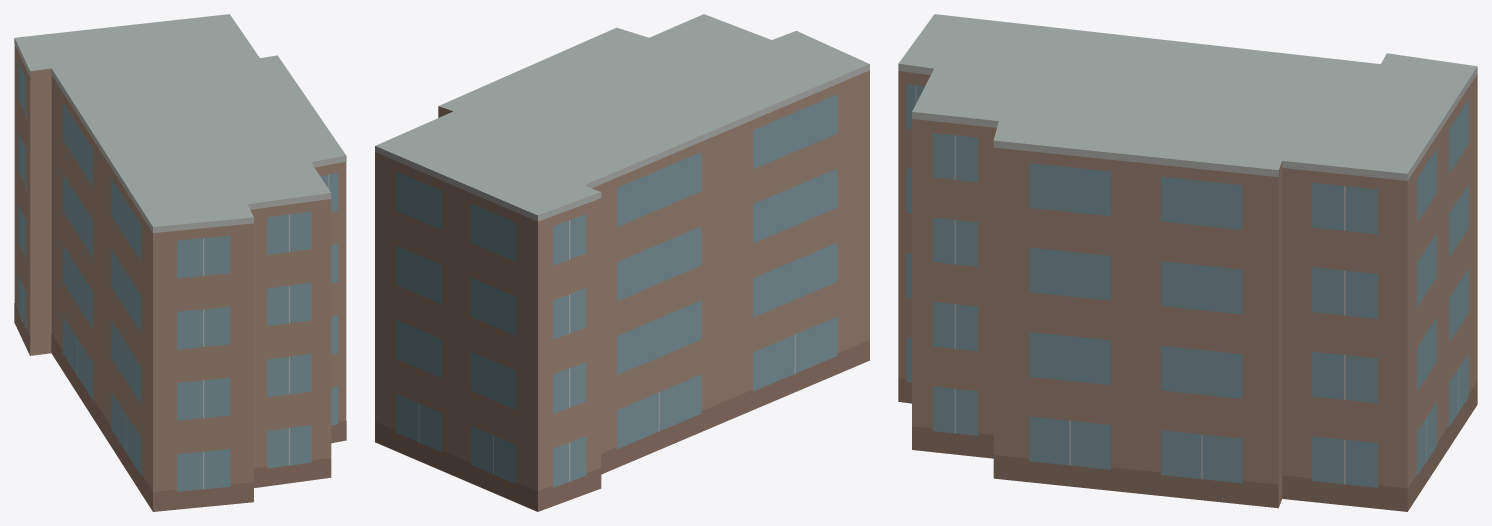
File: survey-upis-32624297.glb
The picture shows the model from 3 angles, left to right: view 1: azimuth 30°, elevation 25°; view 2: azimuth 150°, elevation 25°; view 3: azimuth 270°, elevation 25°; orthographic projection. The views are drawn at different scales.
Visible parts, largest first — view 1: survey-upis-32624297.tmp; view 2: survey-upis-32624297.tmp; view 3: survey-upis-32624297.tmp.
Boxes of the visible parts, left/top/right/bottom form: survey-upis-32624297.tmp: left=14, top=14, right=346, bottom=511; survey-upis-32624297.tmp: left=375, top=14, right=869, bottom=511; survey-upis-32624297.tmp: left=898, top=14, right=1477, bottom=511.
Bounding box in the file's own units: 11.88 × 11.7 × 18.19.
